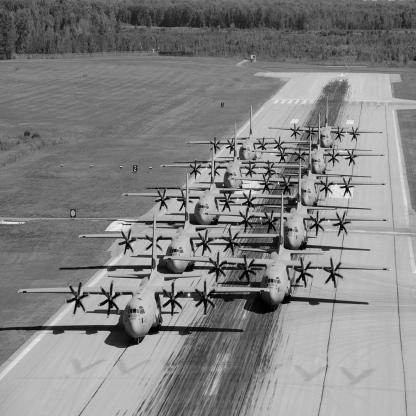C130: (18, 212, 271, 346), (164, 193, 393, 313), (79, 174, 280, 275), (202, 159, 391, 252), (123, 145, 294, 226), (229, 134, 390, 207), (160, 123, 308, 195), (250, 113, 387, 180), (186, 105, 312, 165), (267, 97, 386, 153)
